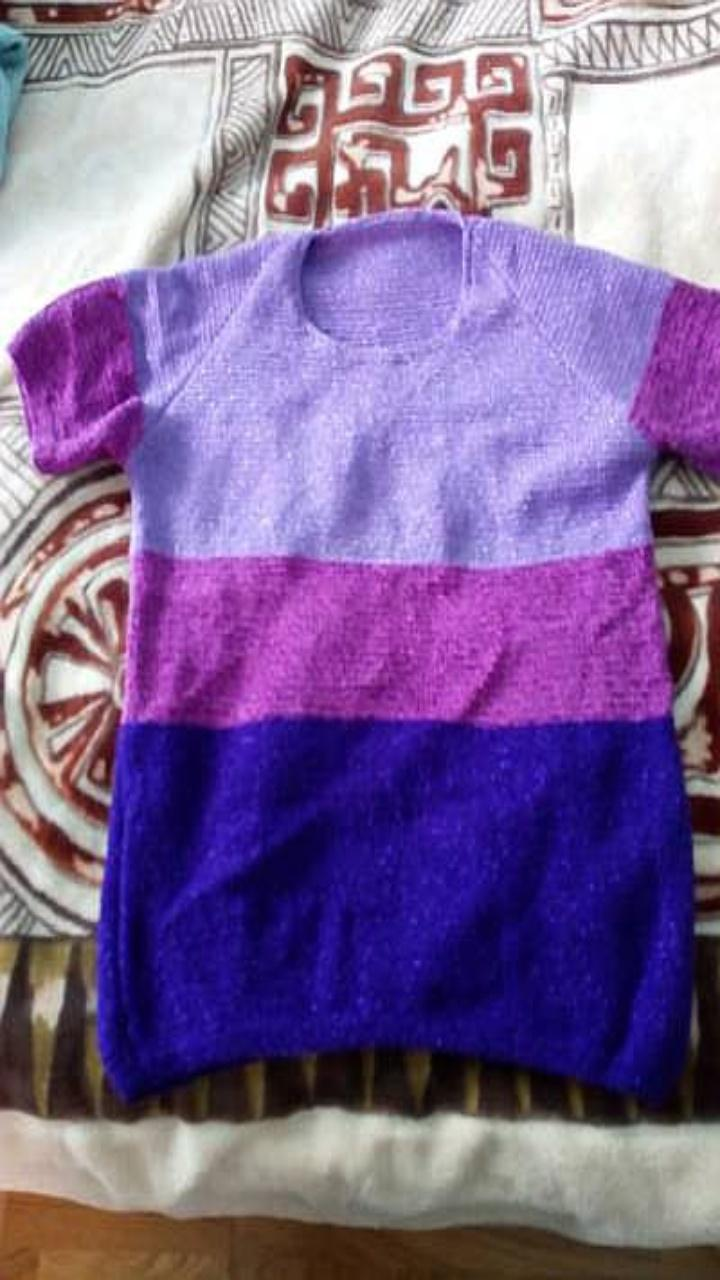T-Shirt: (11, 211, 719, 1102)
